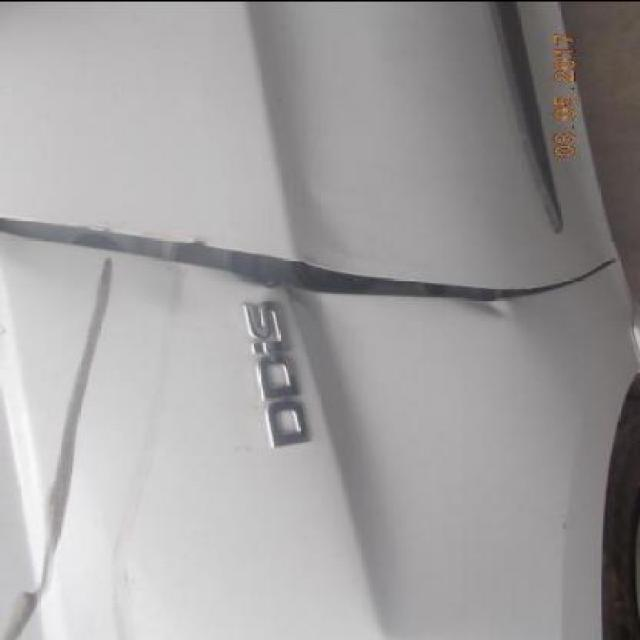damage: (4, 207, 625, 312), (1, 253, 121, 638)
